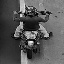mobil: (10, 3, 56, 57)
